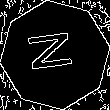N_E: (27, 32, 83, 78)
